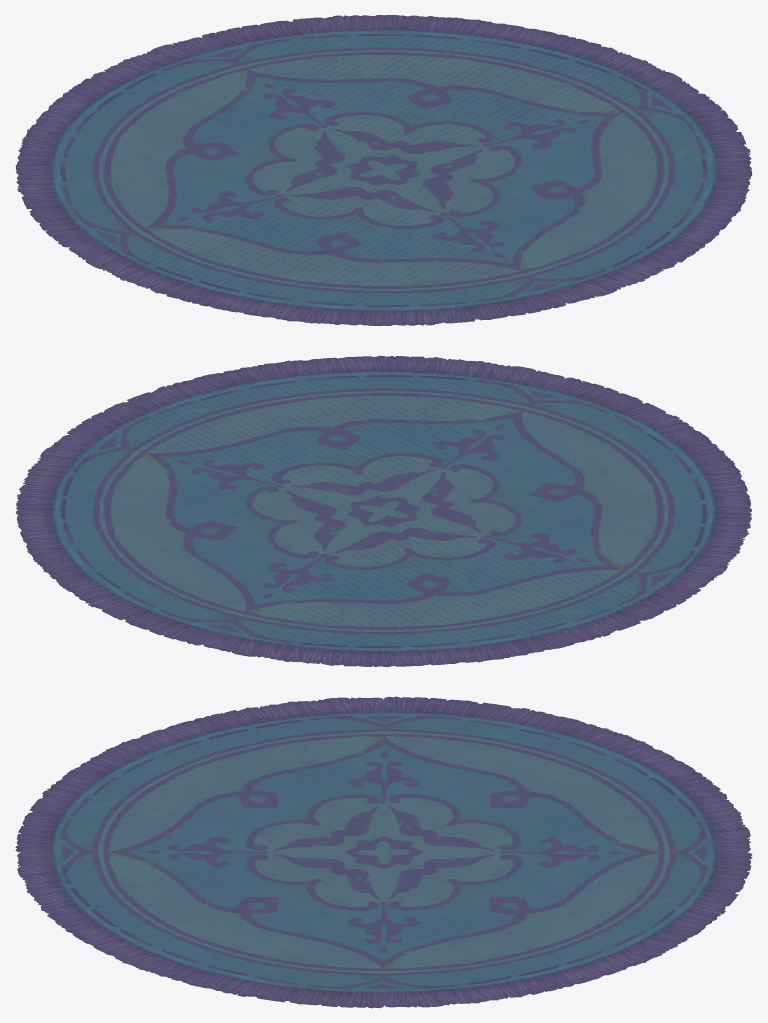
Rendered from Homeworld_Interior_Md_Carpet_Prop_CatTavern_02_Vo.fbx.
3 renders of one model, top to bottom at view 1: azimuth 30°, elevation 25°; view 2: azimuth 150°, elevation 25°; view 3: azimuth 270°, elevation 25°, orthographic.
Parts seen in each view (by area): view 1: Indoor_Md_Prop_Carpet_04_Vo; view 2: Indoor_Md_Prop_Carpet_04_Vo; view 3: Indoor_Md_Prop_Carpet_04_Vo.
Boxes of the visible parts, <box> form: Indoor_Md_Prop_Carpet_04_Vo: <box>15,15,752,325</box>; Indoor_Md_Prop_Carpet_04_Vo: <box>16,355,751,667</box>; Indoor_Md_Prop_Carpet_04_Vo: <box>15,696,752,1008</box>.
Bounding box in the file's own units: 4.19 × 1.83e-07 × 4.19.
Materials: 1 (1 with a texture image).
